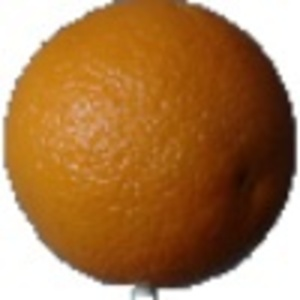laranja: (3, 2, 293, 296)
